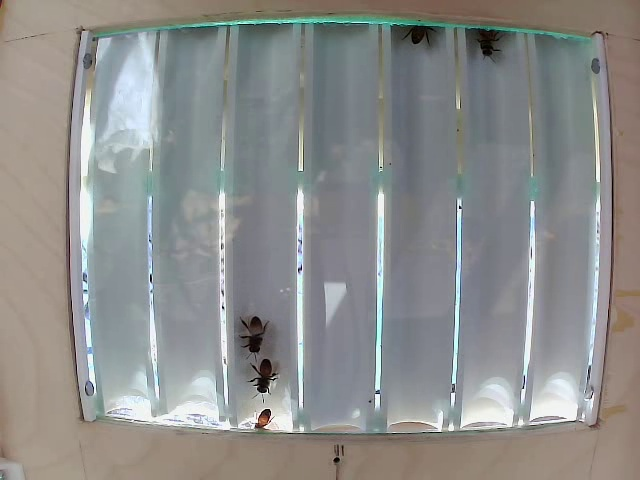bee: (228, 307, 273, 359), (243, 354, 281, 397)
